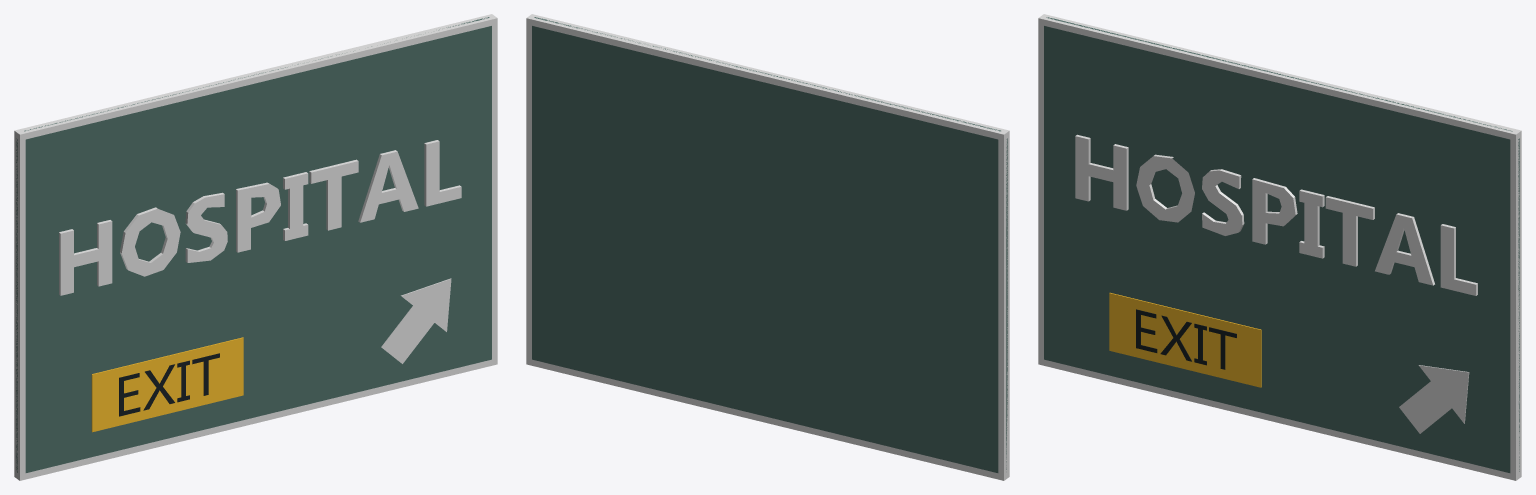
File: SM_FloorProps_RoadSign_35.fbx
3 views of the same model, side by side, from view 1: azimuth 30°, elevation 25°; view 2: azimuth 150°, elevation 25°; view 3: azimuth 330°, elevation 25° (orthographic).
Visible parts, largest first — view 1: SM_FloorProps_RoadSign_35; view 2: SM_FloorProps_RoadSign_35; view 3: SM_FloorProps_RoadSign_35.
Part boxes in pixels (box(x1,y1,x2,y2)): SM_FloorProps_RoadSign_35: box(14, 14, 497, 480); SM_FloorProps_RoadSign_35: box(526, 14, 1009, 480); SM_FloorProps_RoadSign_35: box(1038, 14, 1521, 480).
Size of the model in its own units: 2.33 by 1.61 by 0.064.
